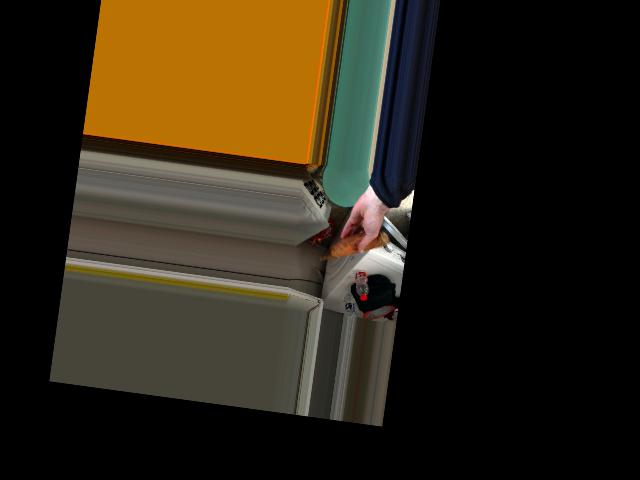sweet_potato: (335, 226, 386, 264)
